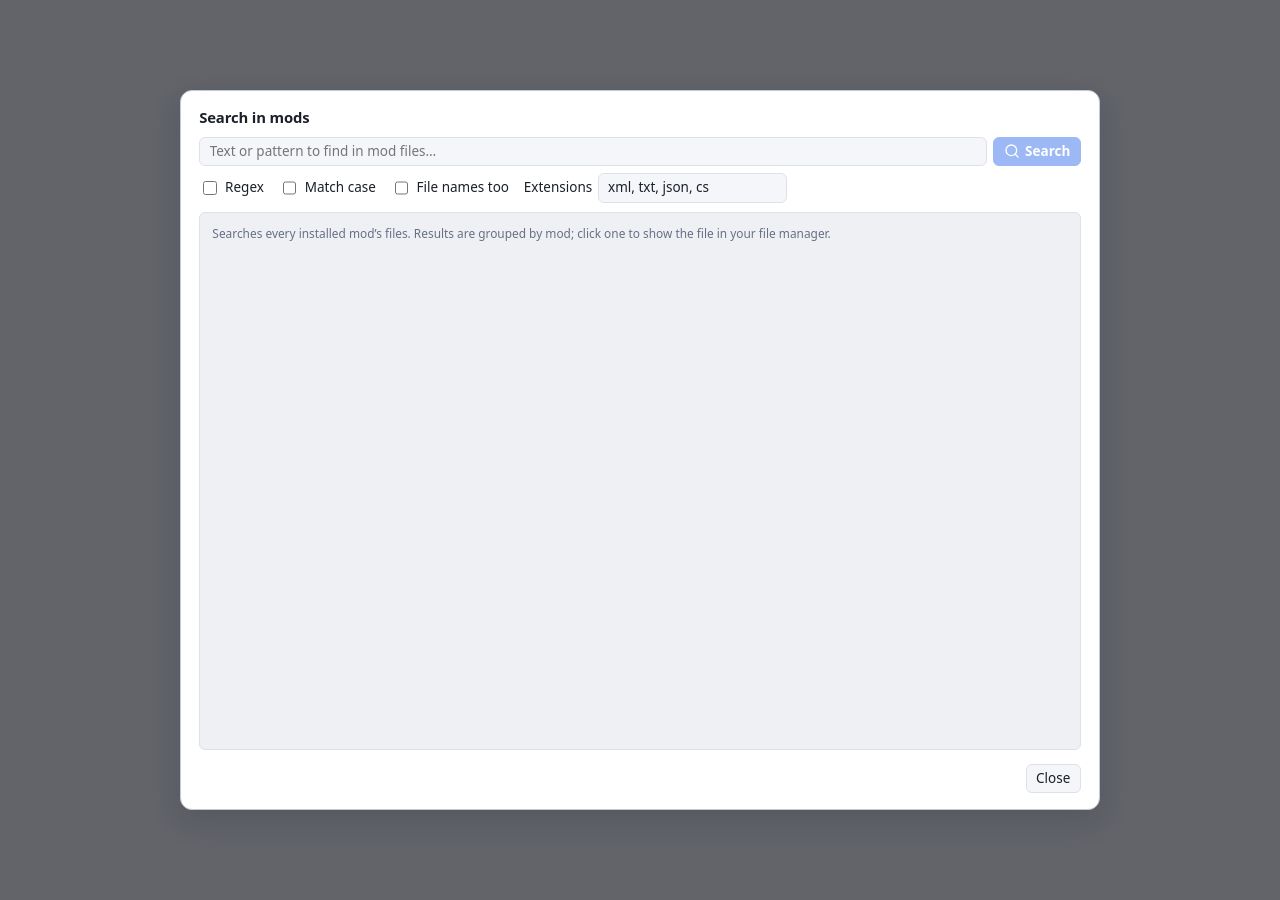
Test case: SearchDialog › says so when nothing matches and flags truncated results
Type "zzz" into the search field named "Search text".
click(593, 151); type("zzz")  # box [199,137,986,166]
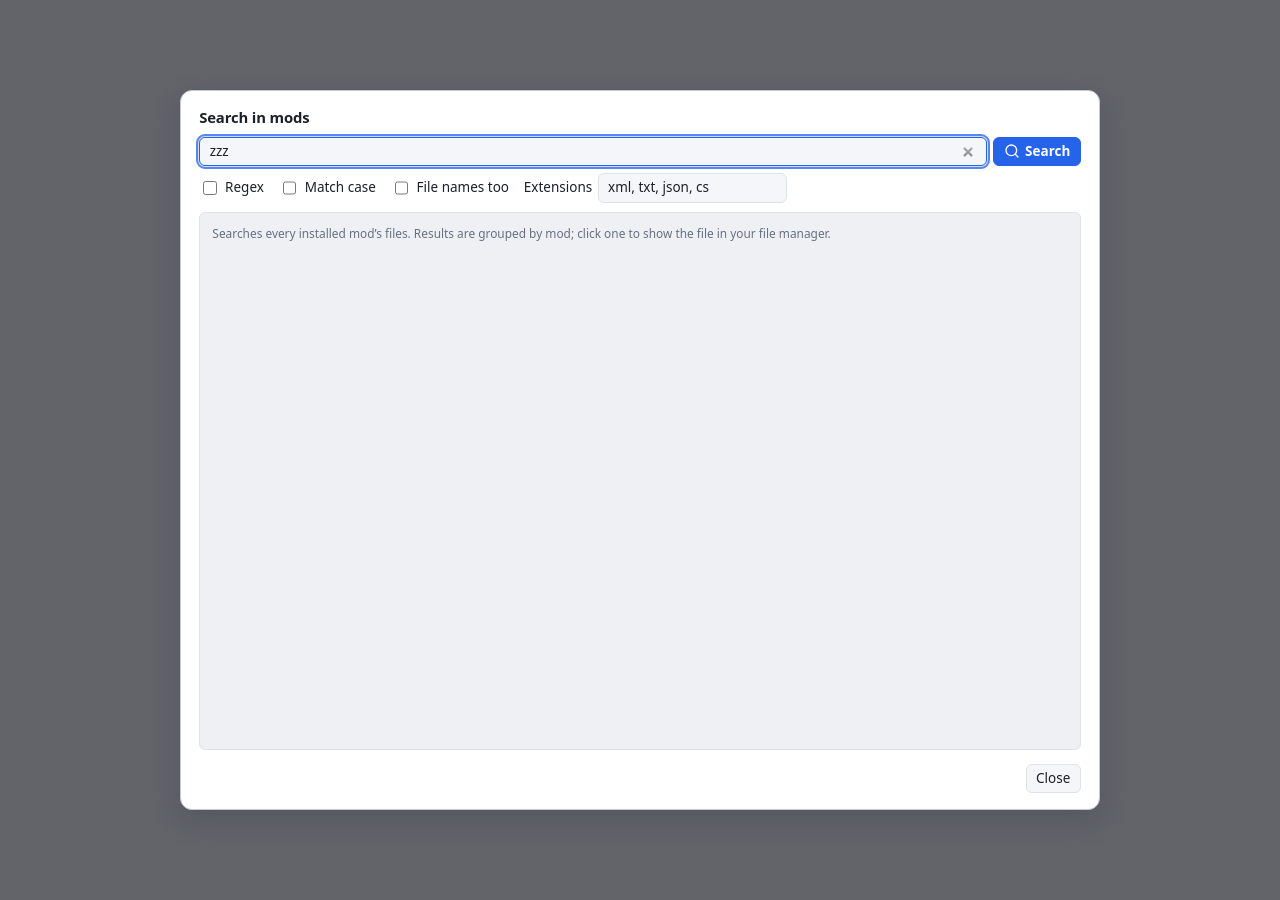
Click the button "Search".
click(1037, 151)  # box [993,137,1081,166]
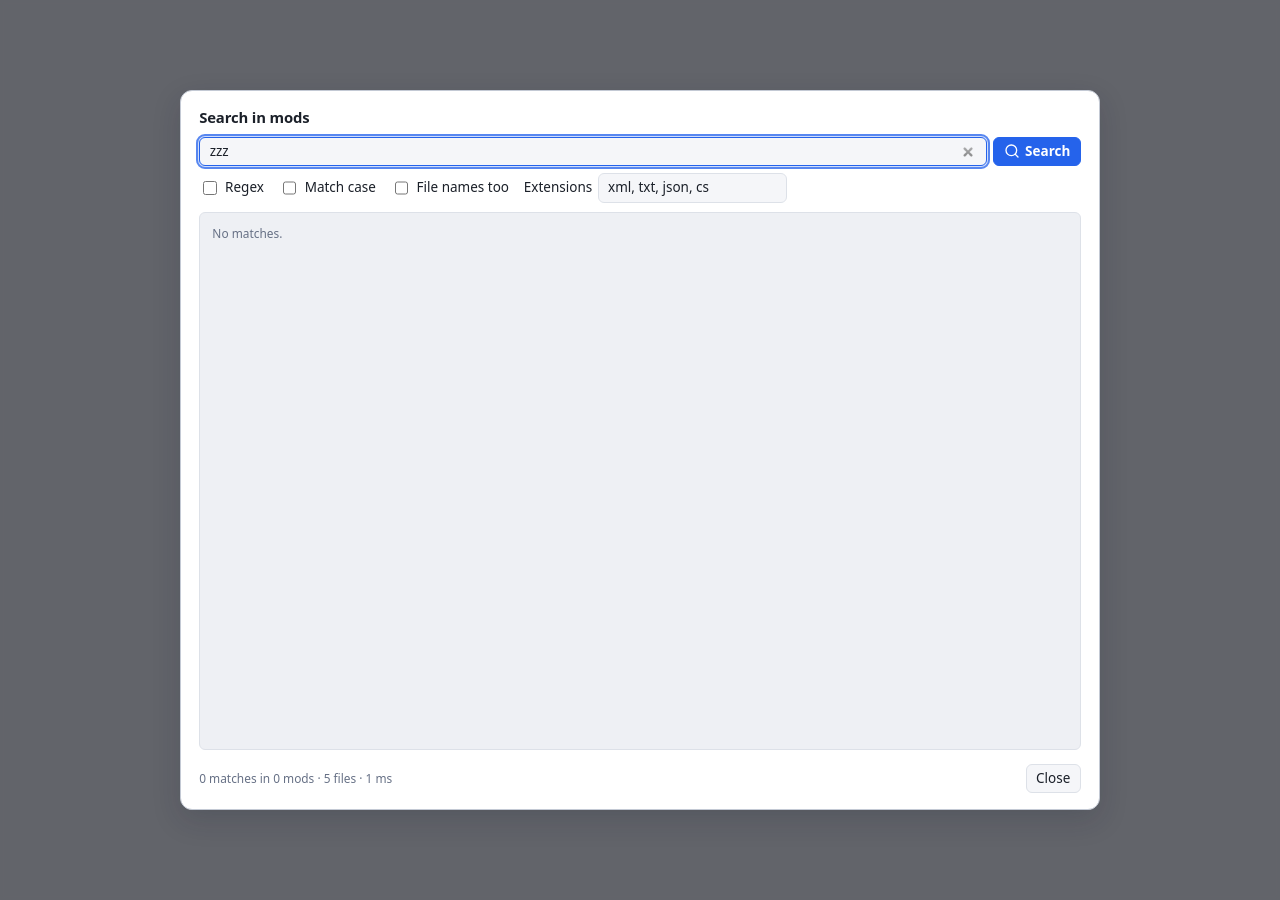
Now the text "No matches." is shown, box [212,225,282,241]
